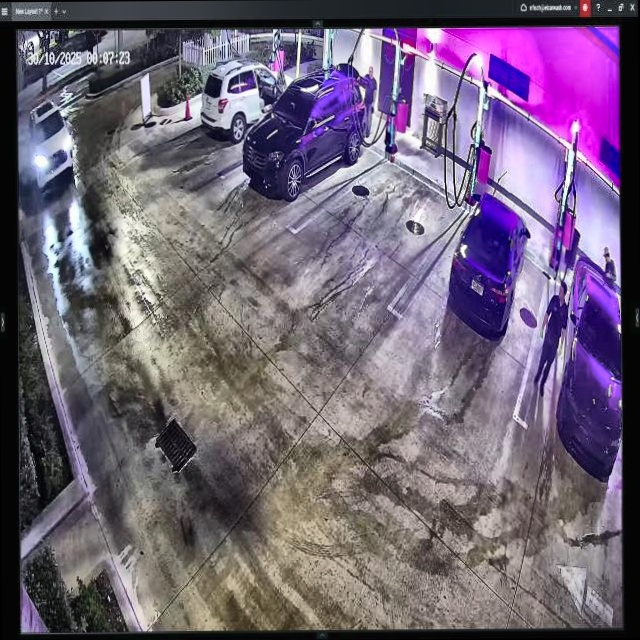Car: (243, 67, 367, 198), (447, 192, 531, 339)
